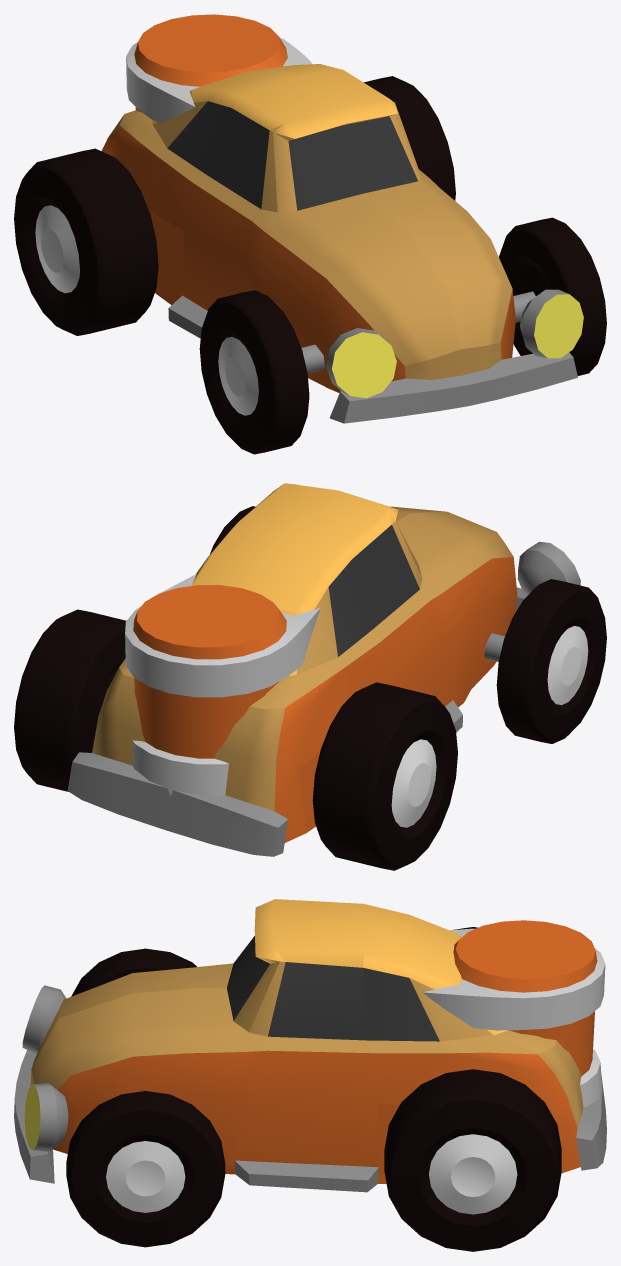
The model's file is Export_Car_Ennemy.FBX.
3 views of the same model, one above another, from view 1: azimuth 30°, elevation 25°; view 2: azimuth 150°, elevation 25°; view 3: azimuth 270°, elevation 25° (orthographic). The views are drawn at different scales.
Parts seen in each view (by area): view 1: Ennemy_Car_Body, Ennemy_Car_Wheel_03, Ennemy_Car_Wheel_04, Ennemy_Car_Wheel_01, Ennemy_Car_Wheel_02; view 2: Ennemy_Car_Body, Ennemy_Car_Wheel_03, Ennemy_Car_Wheel_04, Ennemy_Car_Wheel_02; view 3: Ennemy_Car_Body, Ennemy_Car_Wheel_02, Ennemy_Car_Wheel_01, Ennemy_Car_Wheel_04.
Boxes of the visible parts, <box> form: Ennemy_Car_Body: <box>101,14,583,423</box>; Ennemy_Car_Wheel_03: <box>14,148,158,335</box>; Ennemy_Car_Wheel_04: <box>199,290,309,454</box>; Ennemy_Car_Wheel_01: <box>499,217,606,375</box>; Ennemy_Car_Wheel_02: <box>364,76,455,200</box>; Ennemy_Car_Body: <box>67,483,580,856</box>; Ennemy_Car_Wheel_03: <box>312,682,457,870</box>; Ennemy_Car_Wheel_04: <box>496,579,606,743</box>; Ennemy_Car_Wheel_02: <box>14,609,126,791</box>; Ennemy_Car_Body: <box>14,899,606,1192</box>; Ennemy_Car_Wheel_02: <box>384,1069,561,1251</box>; Ennemy_Car_Wheel_01: <box>66,1091,225,1247</box>; Ennemy_Car_Wheel_04: <box>71,948,196,996</box>.
Bounding box in the file's own units: 4.77 × 3.17 × 6.81.
